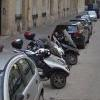Motorcycle: (19, 30, 77, 88)
